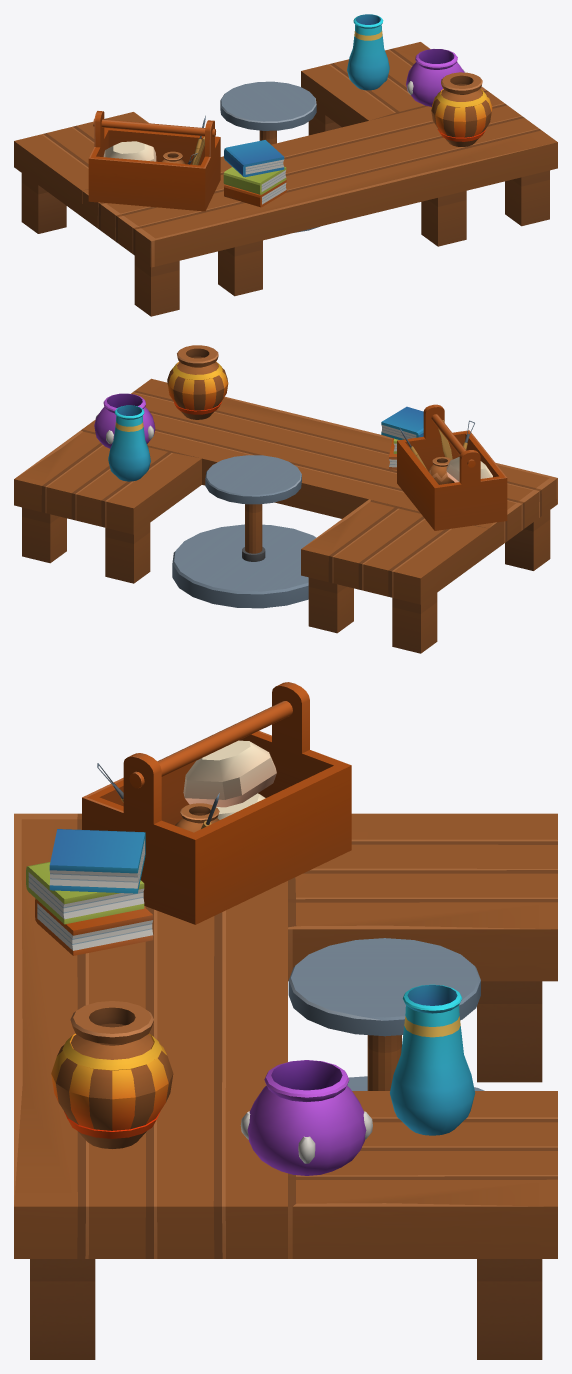
File: PotteryWheel.FBX
The picture shows the model from 3 angles, top to bottom: view 1: azimuth 30°, elevation 25°; view 2: azimuth 150°, elevation 25°; view 3: azimuth 270°, elevation 25°; orthographic projection. The views are drawn at different scales.
Visible parts, largest first — view 1: PotteryWheel; view 2: PotteryWheel; view 3: PotteryWheel.
Boxes of the visible parts, <box> form: PotteryWheel: <box>14,14,557,316</box>; PotteryWheel: <box>14,345,557,653</box>; PotteryWheel: <box>14,682,557,1359</box>.
Bounding box in the file's own units: 2.89 × 1.02 × 1.67.
